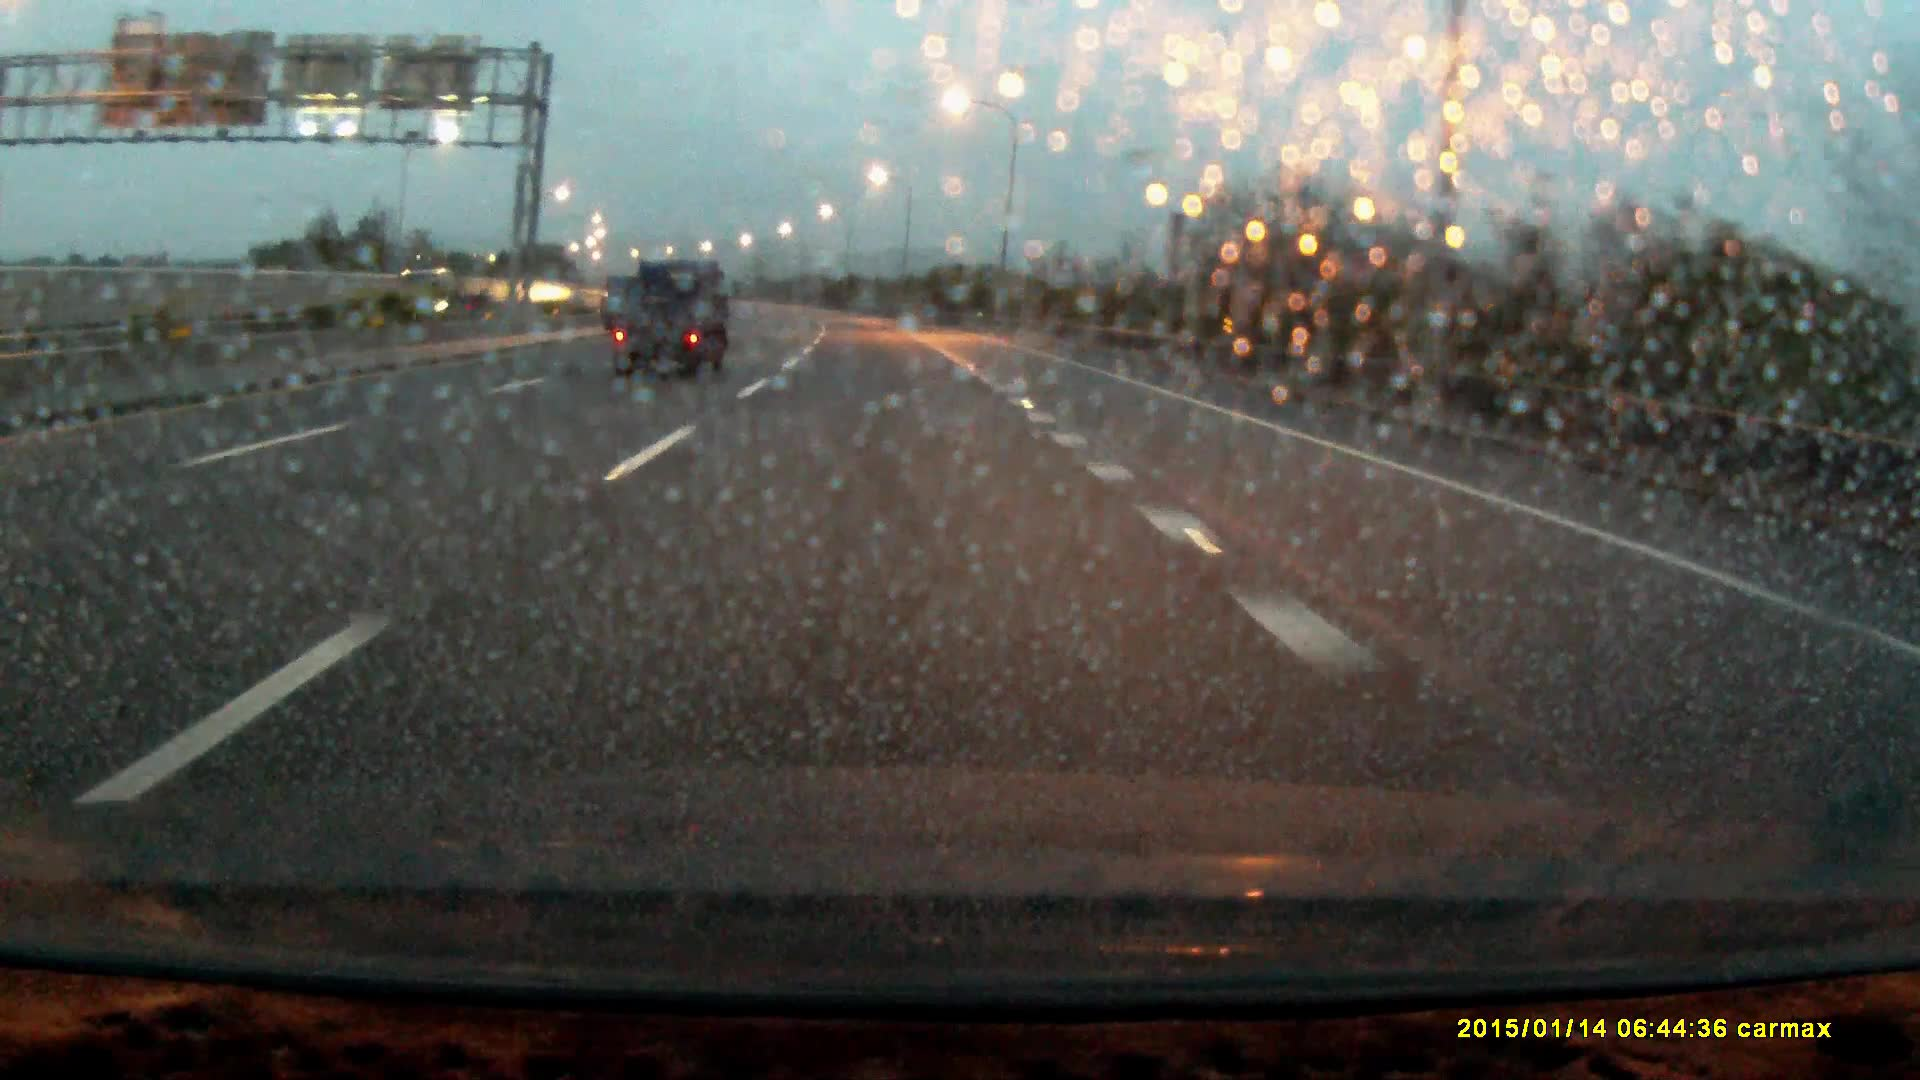vehicle: (611, 258, 733, 381), (400, 265, 502, 316)
